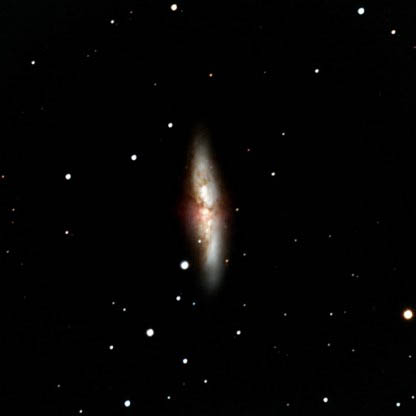Messier 82: (154, 113, 248, 305)
